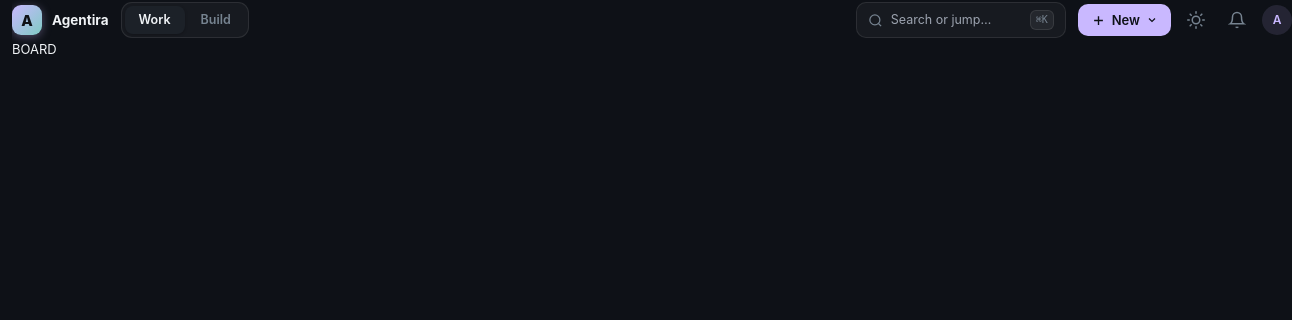
Test: AppTopbar — blended bar › avatar menu carries Inbox, My Work, Chat
Step 1. Click the text titled "Alex Rivera" next to "New" → (1277, 20), box left=1262, top=5, right=1291, bottom=35
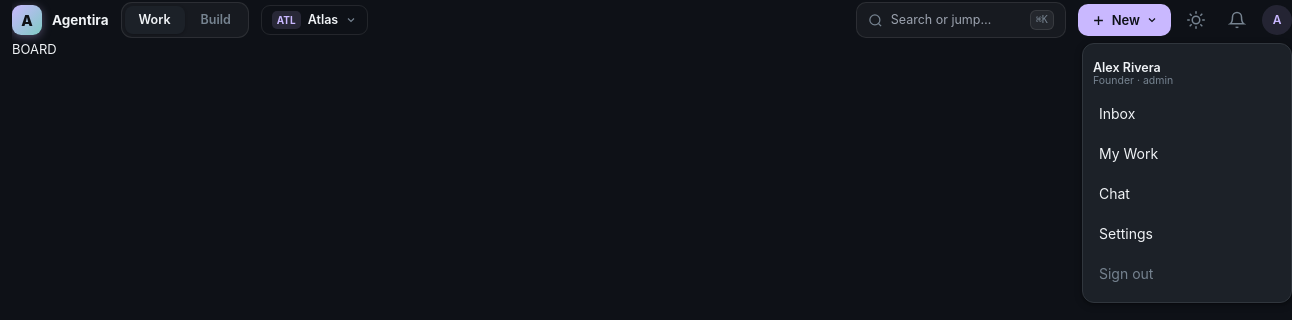
Result: the text "Inbox" is shown at left=1099, top=105, right=1135, bottom=122
Result: the text "My Work" is shown at left=1099, top=145, right=1158, bottom=162
Result: the text "Chat" is shown at left=1099, top=185, right=1130, bottom=202
